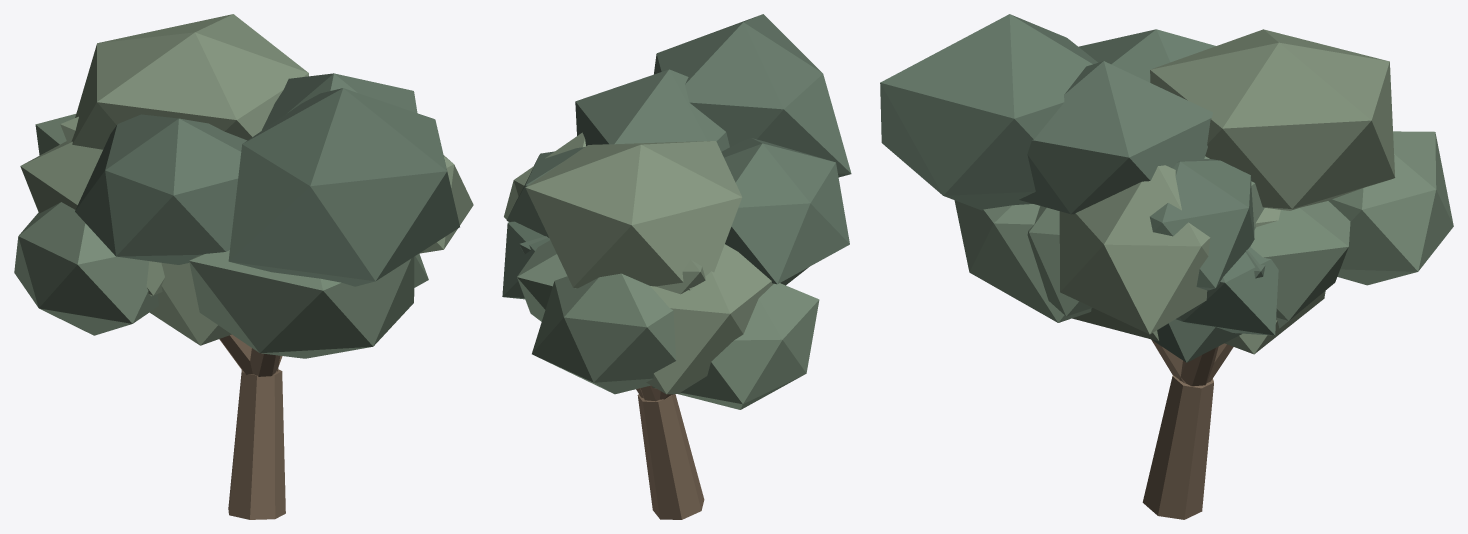
File: UtahJuniperB.glb
The picture shows the model from 3 angles, left to right: view 1: azimuth 30°, elevation 25°; view 2: azimuth 150°, elevation 25°; view 3: azimuth 270°, elevation 25°; orthographic projection. The views are drawn at different scales.
Parts seen in each view (by area): view 1: Juniper foliage pad.036, Juniper foliage pad.027, Juniper foliage pad.033, Juniper foliage pad.035, Juniper foliage pad.031, Limb.009, Juniper foliage pad.034, Juniper foliage pad.030, Juniper foliage pad.037, Juniper foliage pad.022, Juniper foliage pad.028, Limb.014 (+1 smaller); view 2: Juniper foliage pad.027, Juniper foliage pad.036, Juniper foliage pad.033, Juniper foliage pad.028, Juniper foliage pad.031, Juniper foliage pad.034, Juniper foliage pad.037, Limb.009, Juniper foliage pad.023, Juniper foliage pad.020, Juniper foliage pad.024, Juniper foliage pad.022 (+1 smaller); view 3: Juniper foliage pad.027, Juniper foliage pad.036, Juniper foliage pad.037, Juniper foliage pad.022, Juniper foliage pad.028, Juniper foliage pad.024, Juniper foliage pad.023, Limb.009, Juniper foliage pad.035, Juniper foliage pad.020, Juniper foliage pad.033, Juniper foliage pad.038 (+4 smaller).
Part boxes in pixels (x1,y1,x2,y2): Juniper foliage pad.036: [228, 88, 459, 286]; Juniper foliage pad.027: [71, 14, 308, 149]; Juniper foliage pad.033: [75, 114, 247, 264]; Juniper foliage pad.035: [189, 250, 414, 358]; Juniper foliage pad.031: [14, 202, 158, 335]; Limb.009: [228, 369, 285, 519]; Juniper foliage pad.034: [20, 141, 164, 296]; Juniper foliage pad.030: [149, 262, 231, 345]; Juniper foliage pad.037: [262, 73, 417, 130]; Juniper foliage pad.022: [419, 155, 473, 253]; Juniper foliage pad.028: [35, 114, 75, 155]; Limb.014: [219, 334, 252, 374]; Juniper foliage pad.027: [525, 141, 742, 290]; Juniper foliage pad.036: [654, 14, 851, 177]; Juniper foliage pad.033: [721, 137, 849, 284]; Juniper foliage pad.028: [532, 273, 676, 394]; Juniper foliage pad.031: [652, 283, 819, 409]; Juniper foliage pad.034: [646, 244, 773, 394]; Juniper foliage pad.037: [575, 69, 729, 151]; Limb.009: [637, 394, 704, 519]; Juniper foliage pad.023: [517, 240, 567, 321]; Juniper foliage pad.020: [502, 221, 549, 299]; Juniper foliage pad.024: [506, 147, 584, 237]; Juniper foliage pad.022: [504, 132, 585, 219]; Juniper foliage pad.027: [1150, 29, 1395, 210]; Juniper foliage pad.036: [880, 14, 1097, 210]; Juniper foliage pad.037: [1019, 61, 1212, 214]; Juniper foliage pad.022: [1059, 165, 1210, 334]; Juniper foliage pad.028: [1328, 131, 1453, 285]; Juniper foliage pad.024: [1150, 159, 1254, 290]; Juniper foliage pad.023: [1250, 201, 1350, 328]; Limb.009: [1142, 375, 1213, 519]; Juniper foliage pad.035: [954, 200, 1091, 322]; Juniper foliage pad.020: [1175, 247, 1278, 335]; Juniper foliage pad.033: [1078, 29, 1215, 82]; Juniper foliage pad.038: [1027, 206, 1092, 316].
Bounding box in the file's own units: 2.96 × 3.56 × 3.71.
